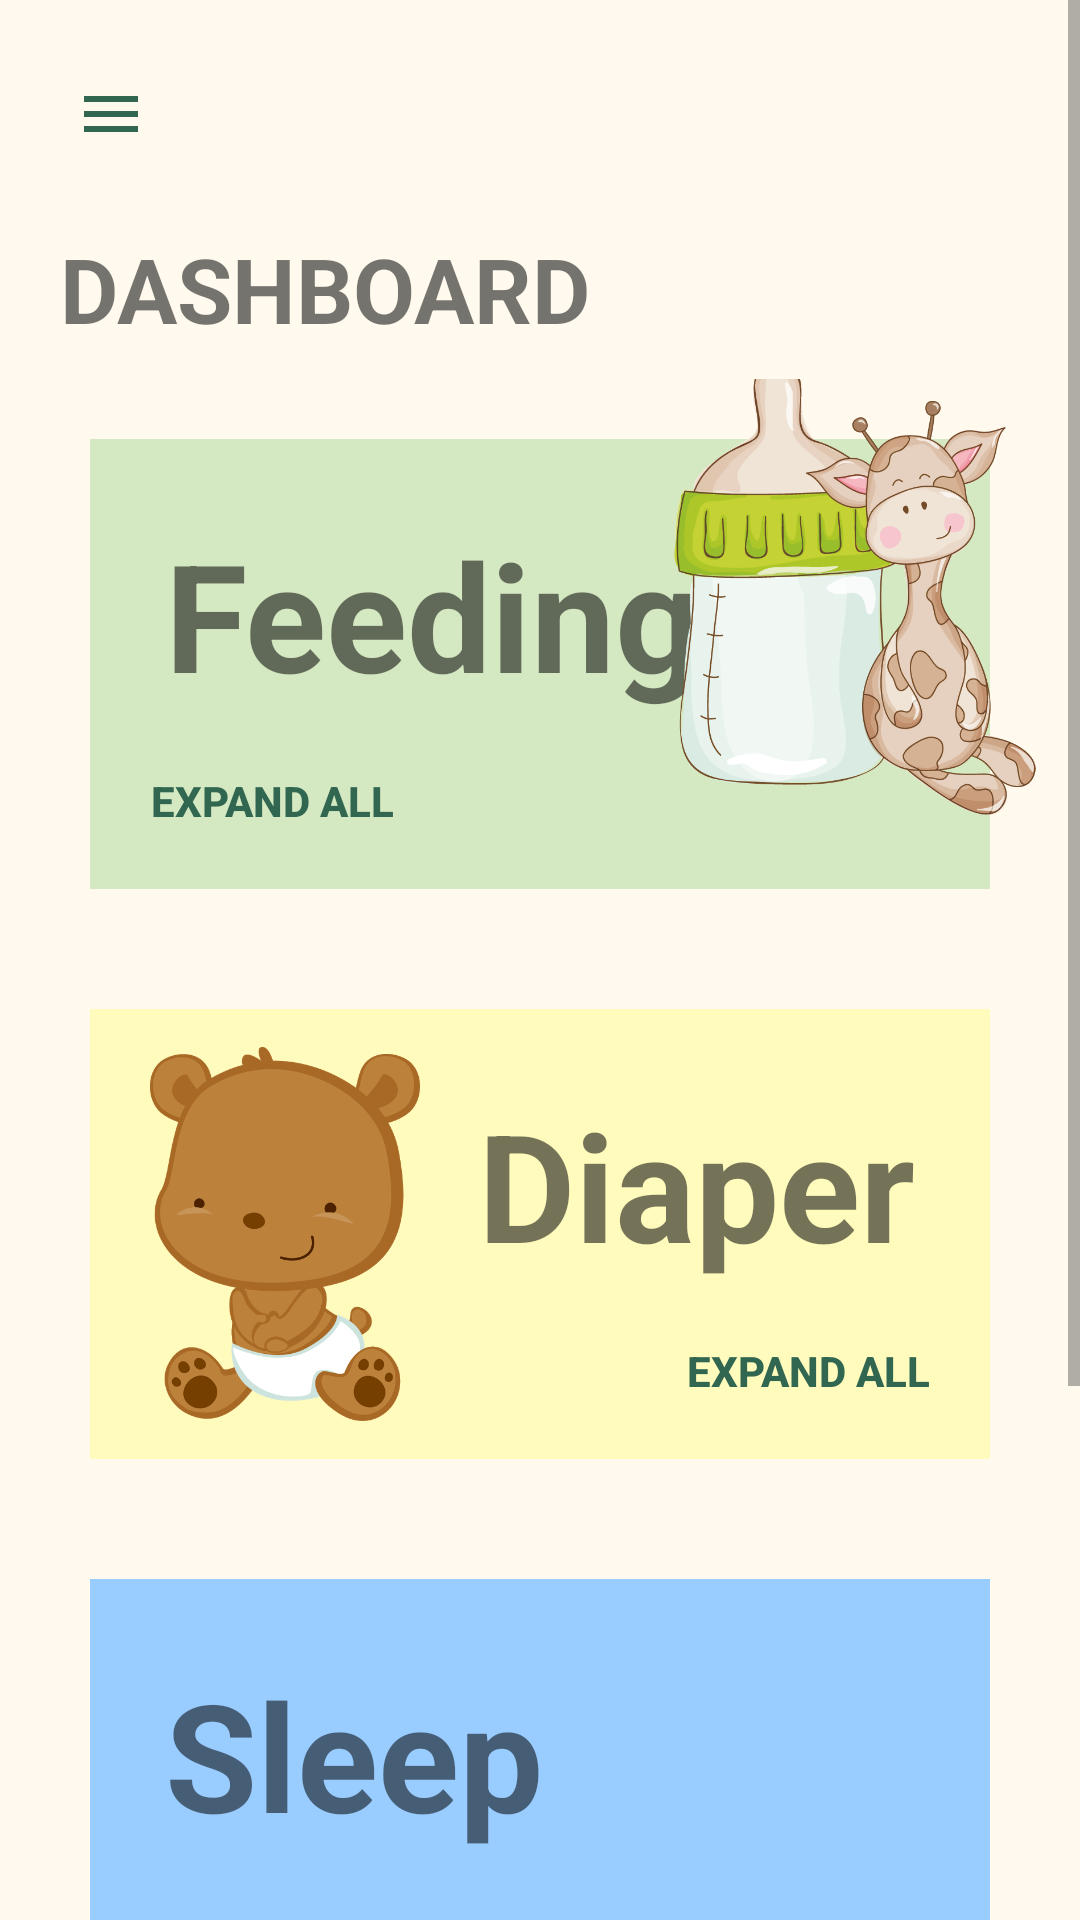

Icons on this 1080w x 1920h Android screen, each with the point to tap as (x=x, y=y):
menu: (x=111, y=114)
